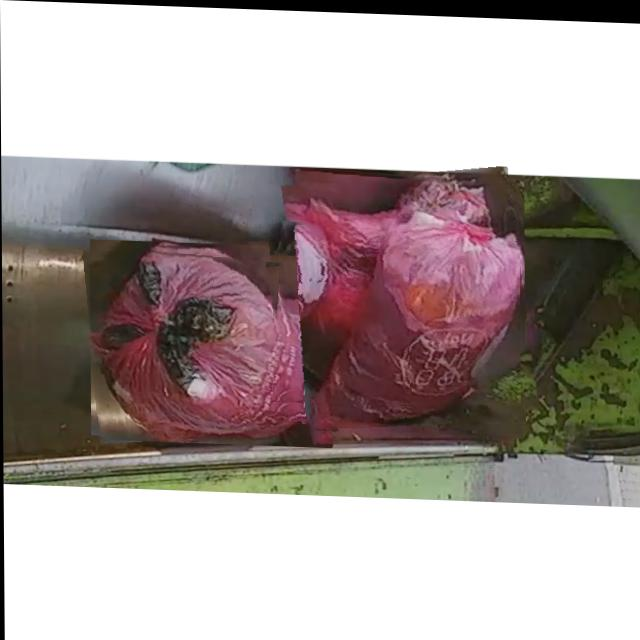other_trashbag: (312, 173, 519, 426), (90, 248, 331, 440), (279, 220, 409, 401)
